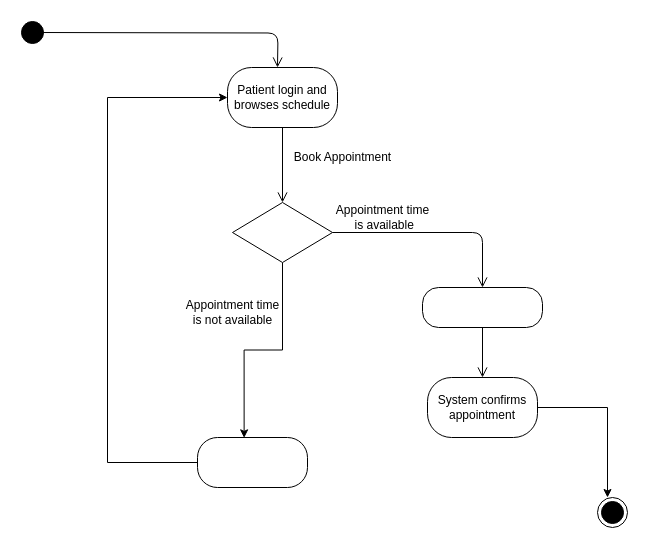
This 645x545 diagram has some shape labels left out. Here are the shapes that lost their labels. From the top down, the centre of each, then its label:
At point (482, 307): "Make Payment".
At point (252, 462): "System informs patient time is unavailable".
